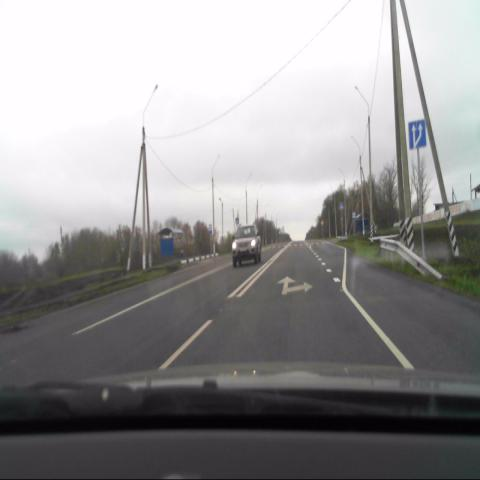5_15_3: (408, 119, 427, 150)
